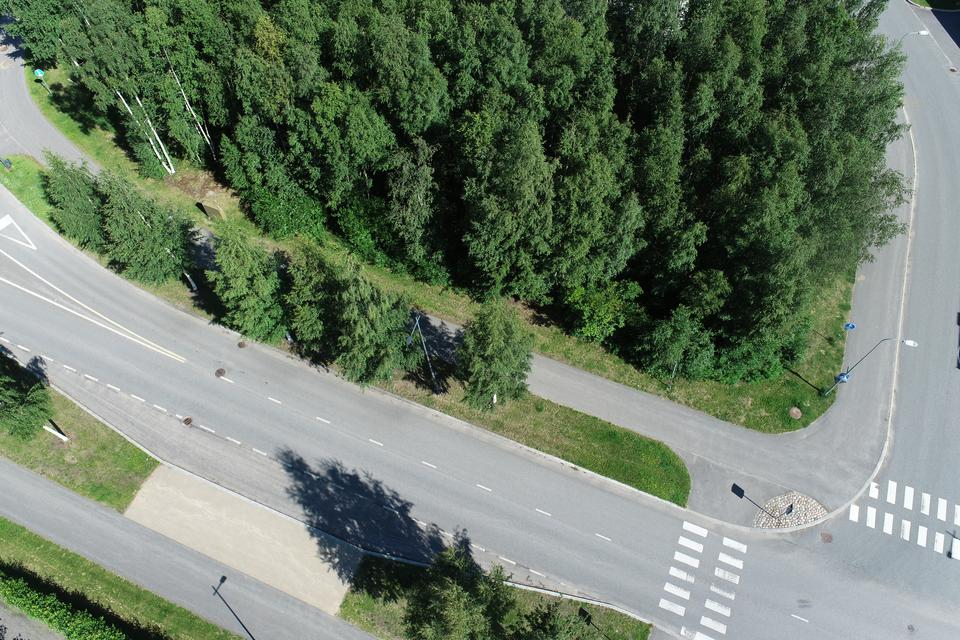intersection: (642, 382, 960, 640)
